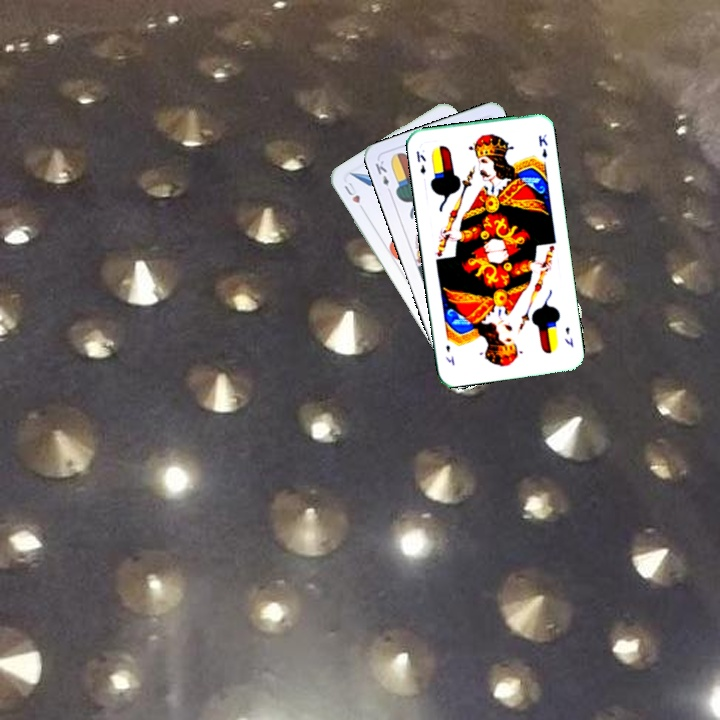EK: (371, 156, 394, 197), (412, 147, 428, 176), (561, 323, 576, 350)
HU: (340, 178, 368, 215)
